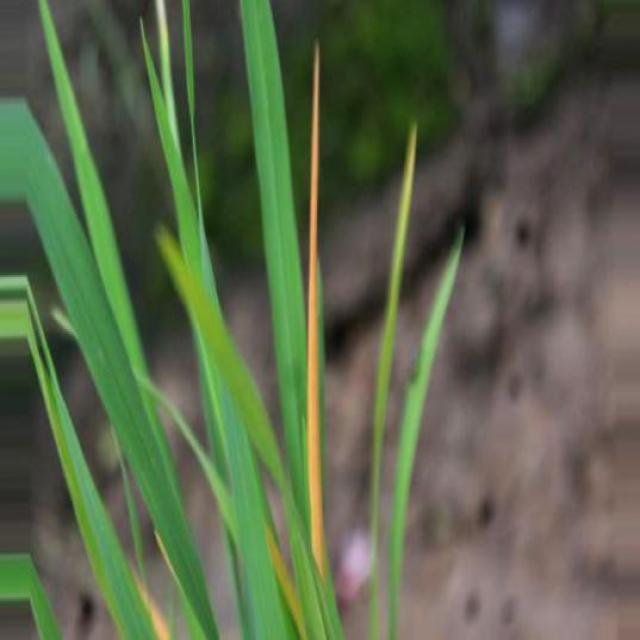Rice Tungro: (306, 41, 325, 578)
